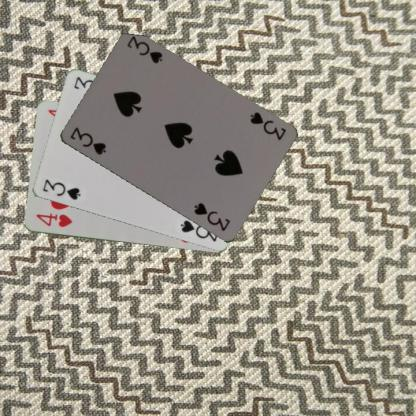3s: (67, 124, 107, 157), (247, 109, 287, 142), (40, 176, 82, 202)
4h: (33, 211, 73, 229)
